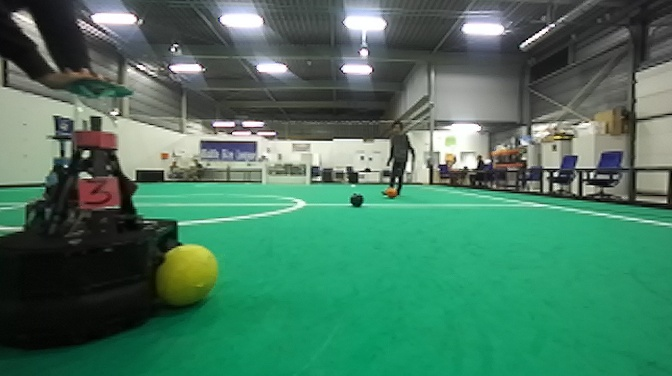ball: (154, 240, 223, 314), (346, 190, 367, 211), (384, 185, 399, 199)
goal: (260, 159, 311, 183)
goalpost: (304, 161, 312, 184), (260, 159, 267, 183)
human: (382, 117, 418, 201)
robot: (1, 74, 191, 360)
